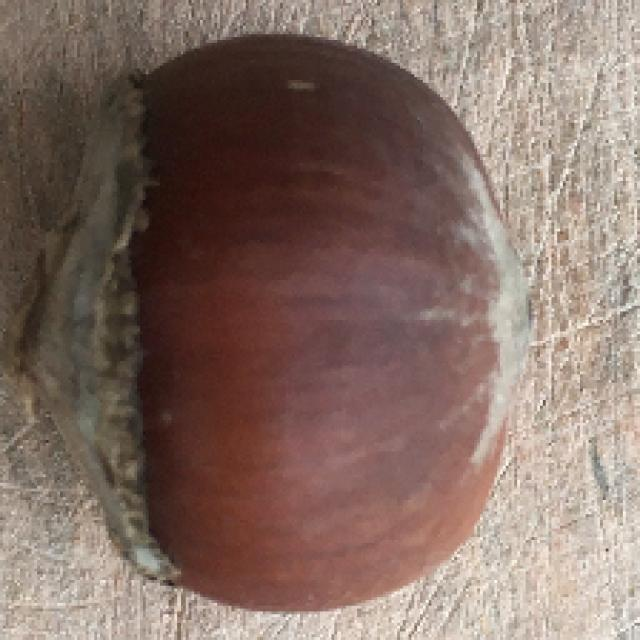damagedHazelnut: (22, 28, 519, 612)
